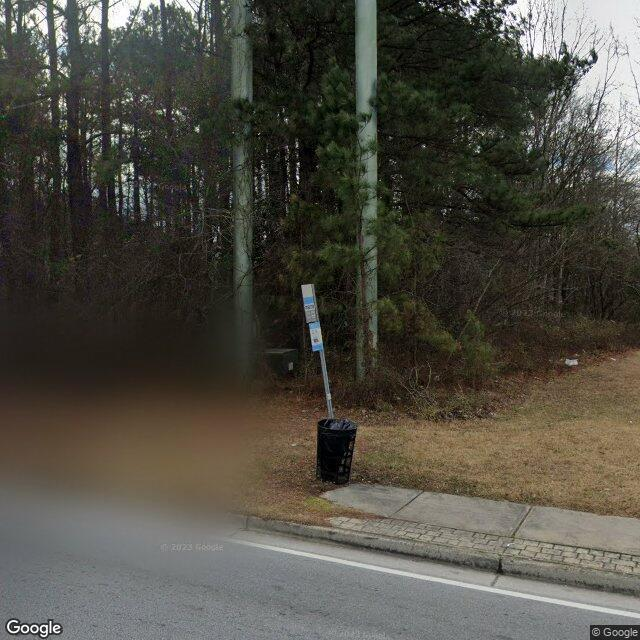trash_can: (316, 418, 358, 486)
